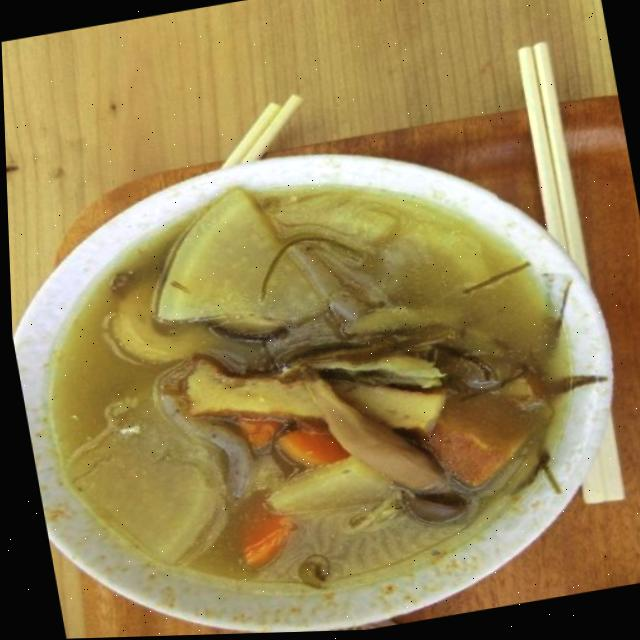汤锅炖物: (3, 105, 640, 640)
